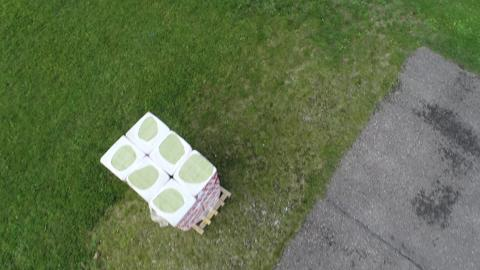RockwoolPallet: (99, 111, 223, 232)
